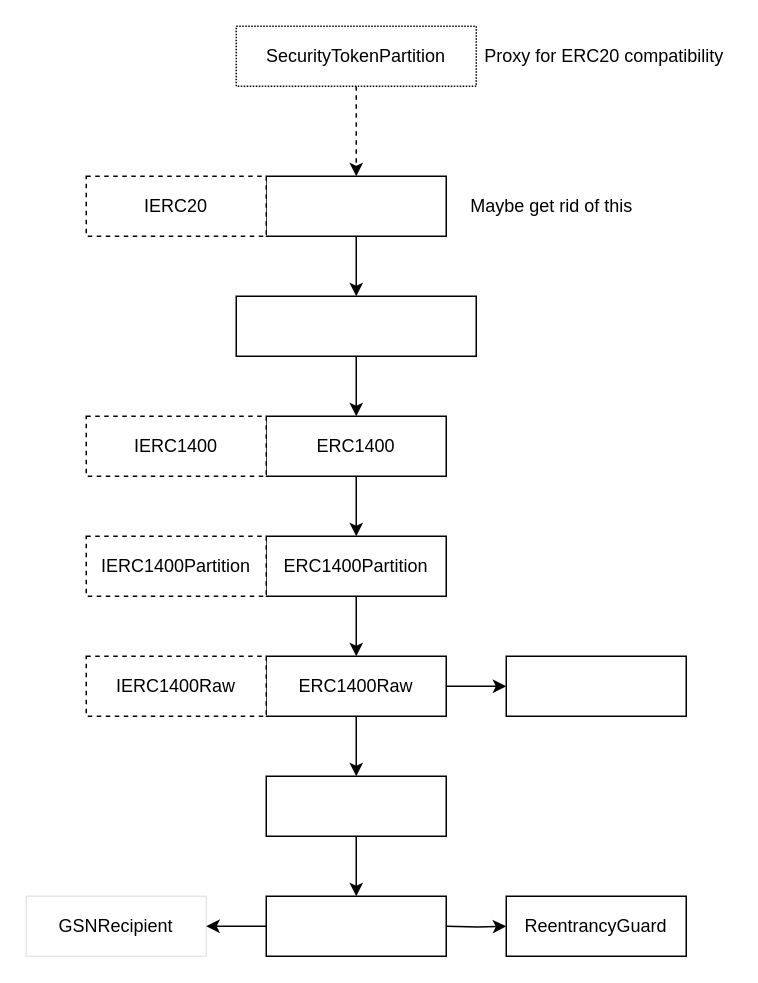
Image size: 758x983. Some labels were removed from this diagram. The centre of each missing label's shape, as x and y in pixels:
Administrable: (355,925)
Constrainable: (355,805)
ERC1400ERC20: (355,205)
ERC1400ERC20Capped: (355,325)
ERC1820Client: (595,685)
